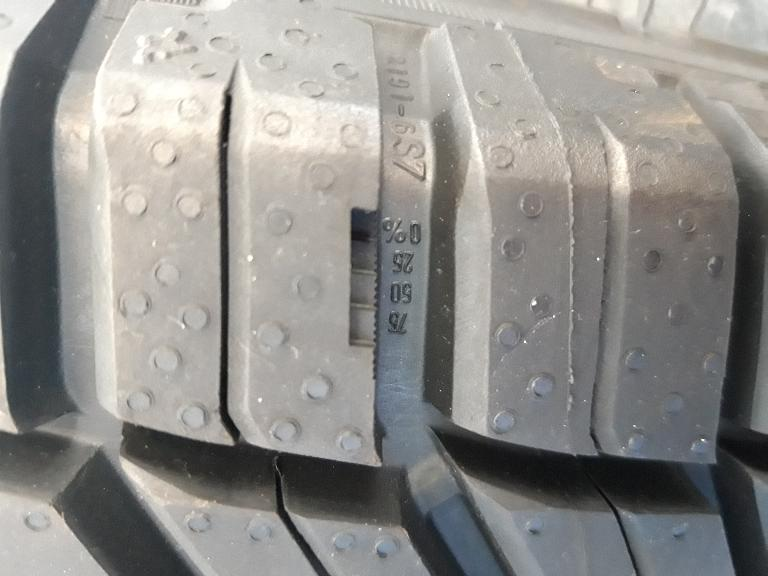temoin:100: (346, 204, 382, 378)
